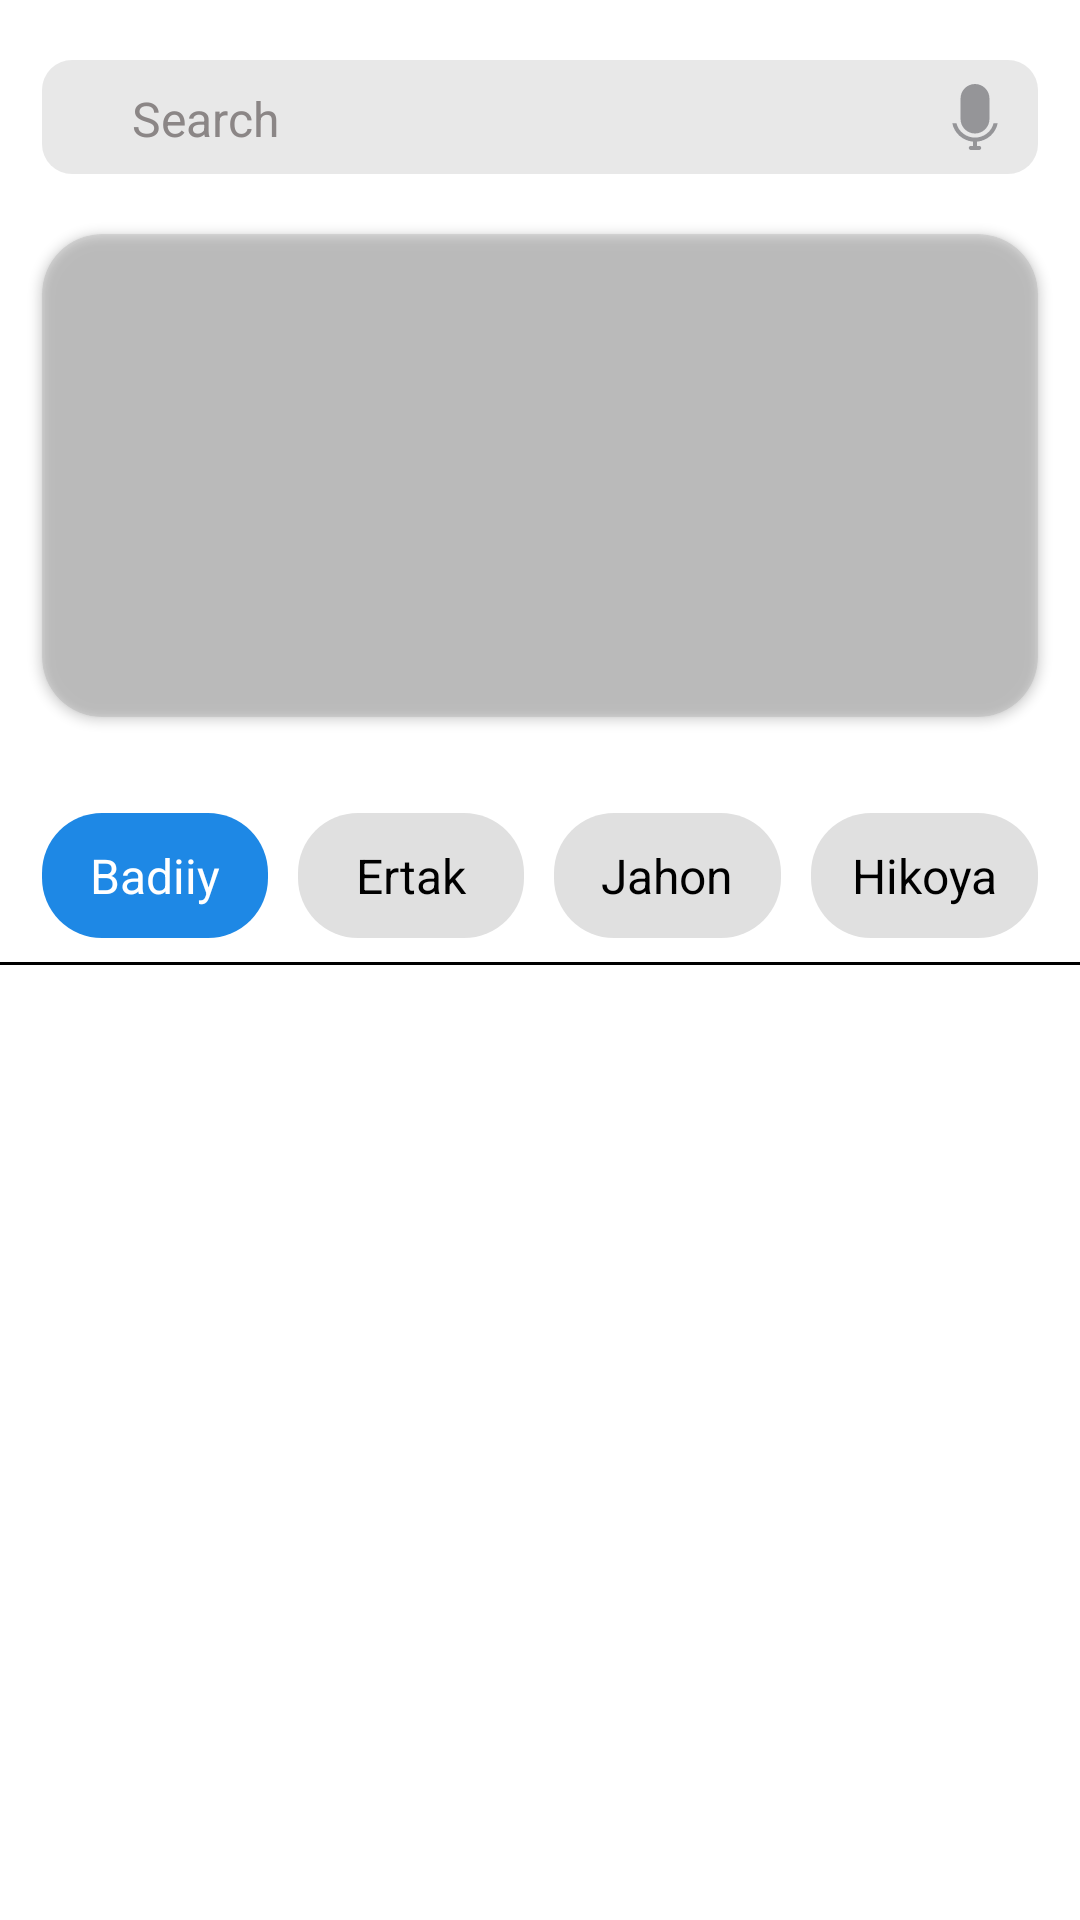

Where to tap for icons on this 1080 x 1920 app screen, as point (x, y):
mic: point (975, 117)
